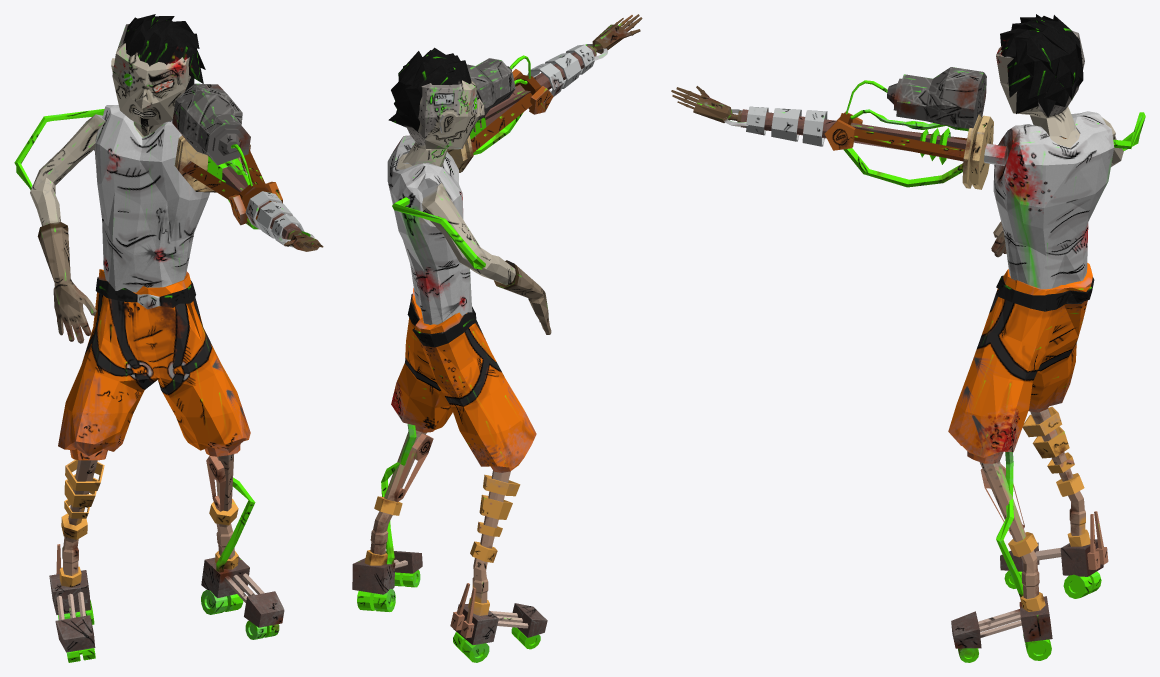
The model's file is CyborgFINALAnimation_000112.obj.
3 views of the same model, side by side, from view 1: azimuth 30°, elevation 25°; view 2: azimuth 150°, elevation 25°; view 3: azimuth 270°, elevation 25° (orthographic). The views are drawn at different scales.
Parts seen in each view (by area): view 1: CyborgMesh_Cube.002; view 2: CyborgMesh_Cube.002; view 3: CyborgMesh_Cube.002.
Boxes of the visible parts, <box> form: CyborgMesh_Cube.002: <box>14,14,323,662</box>; CyborgMesh_Cube.002: <box>352,14,642,662</box>; CyborgMesh_Cube.002: <box>671,14,1145,662</box>.
Size of the model in its own units: 3.23 by 9.61 by 6.77.
